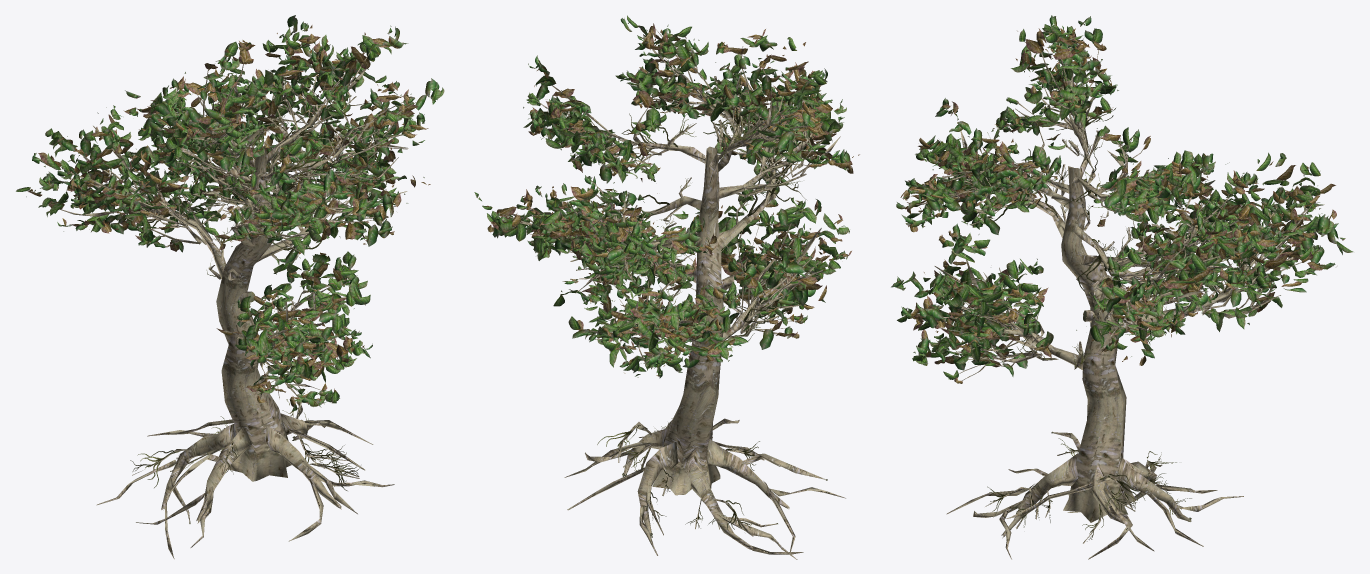
The model's file is kingsville_wood02.gltf.
3 views of the same model, side by side, from view 1: azimuth 30°, elevation 25°; view 2: azimuth 150°, elevation 25°; view 3: azimuth 270°, elevation 25° (orthographic).
Visible parts, largest first — view 1: Kingsville wood02; view 2: Kingsville wood02; view 3: Kingsville wood02.
Boxes of the visible parts, x1,y1,x2,y2 form: Kingsville wood02: (16, 15, 444, 559); Kingsville wood02: (474, 15, 859, 559); Kingsville wood02: (891, 15, 1353, 559).
Size of the model in its own units: 3.11 by 4.35 by 3.6.
Materials: 4 (4 with a texture image).
